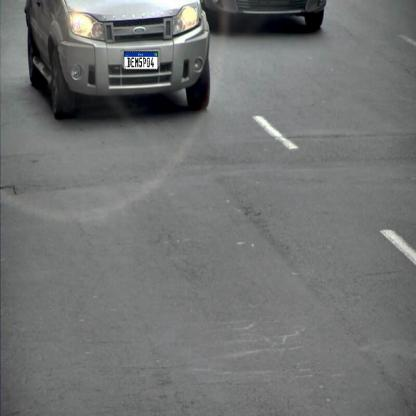PlacaM: (124, 51, 158, 70)
